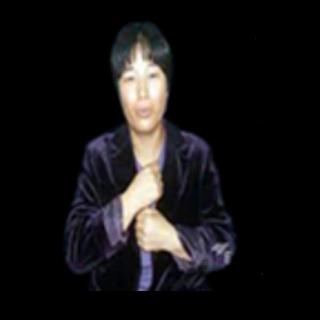CAREFUL: (129, 161, 177, 260)
